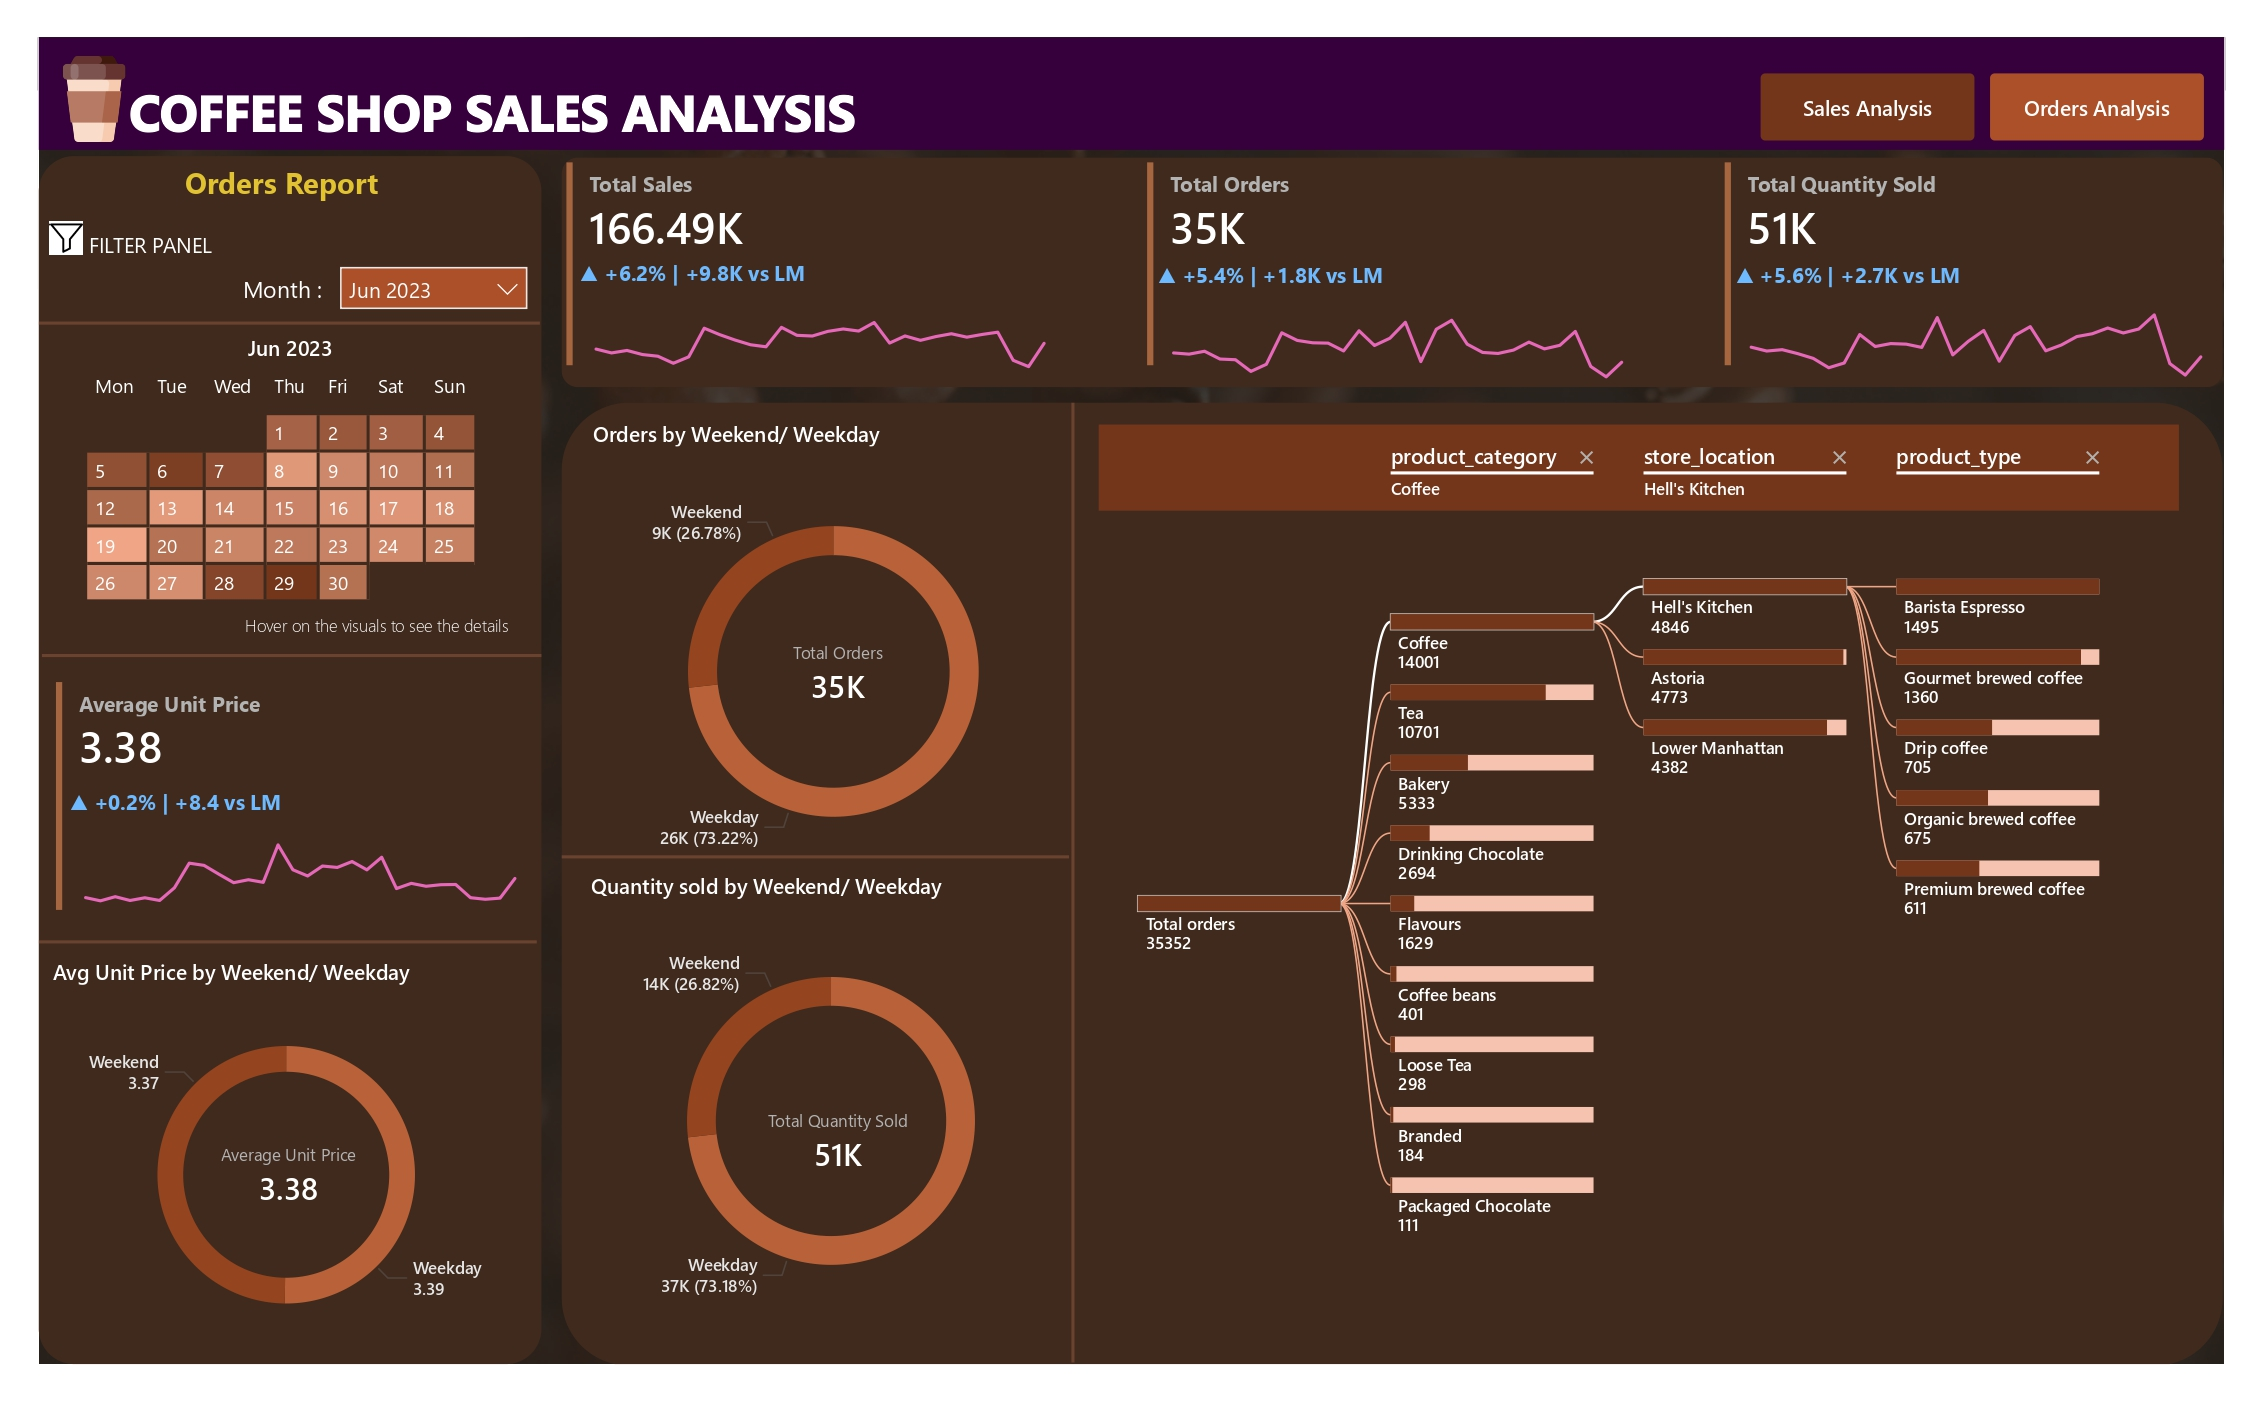

This screenshot's page, from the dashboard's own definition file:
{"tool":"powerbi","page":{"name":"Orders Analysis","canvas":[1400,850],"ordinal":1},"visuals":[{"type":"shape","box":[-7,0,1406.8,71.7],"z":0},{"type":"textbox","box":[53.4,19.7,735,56.2],"z":1000},{"type":"image","box":[0,7,70.3,64.6],"z":2000},{"type":"shape","box":[0,75.9,321.8,774.4],"z":3000},{"type":"shape","box":[334.7,76.5,1064.1,147.1],"z":4000},{"type":"shape","box":[334.7,234.1,1064.1,616.9],"z":5000},{"type":"cardVisual","fields":{"Data":["Transactions.Total sales"]},"box":[335.9,75.9,267,137.7],"z":6000},{"type":"cardVisual","fields":{"Data":["Transactions.Total orders"]},"box":[707.6,75.9,265.6,137.7],"z":7000},{"type":"cardVisual","fields":{"Data":["Transactions.Total Quantity Sold"]},"box":[1078,75.9,272.7,137.7],"z":8000},{"type":"pivotTable","fields":{"Columns":["Date Table.Day Name"],"Values":["Min(Date Table.Day Number)"],"Rows":["Date Table.Week Number"]},"box":[1.5,206.6,320.4,185.5],"z":9000},{"type":"lineChart","fields":{"Category":["Date Table.Date.Variation.Date Hierarchy.Year","Date Table.Date.Variation.Date Hierarchy.Quarter","Date Table.Date.Variation.Date Hierarchy.Month","Date Table.Date.Variation.Date Hierarchy.Day"],"Y":["Transactions.Total sales"]},"box":[341.5,142,317.6,81.5],"z":10000},{"type":"lineChart","fields":{"Category":["Date Table.Date.Variation.Date Hierarchy.Year","Date Table.Date.Variation.Date Hierarchy.Quarter","Date Table.Date.Variation.Date Hierarchy.Month","Date Table.Date.Variation.Date Hierarchy.Day"],"Y":["Transactions.Total orders"]},"box":[711.9,143.4,317.6,81],"z":11000},{"type":"lineChart","fields":{"Category":["Date Table.Date.Variation.Date Hierarchy.Year","Date Table.Date.Variation.Date Hierarchy.Quarter","Date Table.Date.Variation.Date Hierarchy.Month","Date Table.Date.Variation.Date Hierarchy.Day"],"Y":["Transactions.Total Quantity Sold"]},"box":[1081.8,142.6,318.2,81],"z":12000},{"type":"card","fields":{"Values":["Min(Date Table.Month Year)"]},"box":[94.6,181.6,132.1,39],"z":13000},{"type":"card","fields":{"Values":["Transactions.Foot Note"]},"box":[111.1,359.8,210.8,39.4],"z":14000},{"type":"shape","box":[0,159.1,321.2,48],"z":15000},{"type":"shape","box":[1.5,371.7,320.4,47.8],"z":16000},{"type":"textbox","box":[67.5,75,175.6,48],"z":17000},{"type":"textbox","box":[27,118.6,175.6,31.5],"z":18000},{"type":"image","box":[1.5,112.6,31.5,31.5],"z":19000},{"type":"shape","box":[334.7,501.3,325.7,48],"z":20000},{"type":"shape","box":[502.8,234.1,319.7,615.4],"z":21000},{"type":"donutChart","title":"Orders by Weekend/ Weekday","fields":{"Category":["Date Table.Weekend/ Weekday"],"Y":["Transactions.Total orders"]},"box":[349.7,244.6,318.2,304.7],"z":22000},{"type":"donutChart","title":"Quantity sold by Weekend/ Weekday","fields":{"Category":["Date Table.Weekend/ Weekday"],"Y":["Transactions.Total Quantity Sold"]},"box":[348.5,535.5,317.6,299.4],"z":23000},{"type":"decompositionTreeVisual","fields":{"Analyze":["Transactions.Total orders"],"ExplainBy":["Transactions.product_category","Transactions.store_location","Transactions.product_type"]},"box":[673.9,243.1,702.4,600.3],"z":24000},{"type":"cardVisual","fields":{"Data":["Transactions.Average Unit Price"]},"box":[9.1,408.7,297.2,154.6],"z":25000},{"type":"lineChart","fields":{"Category":["Date Table.Date.Variation.Date Hierarchy.Year","Date Table.Date.Variation.Date Hierarchy.Quarter","Date Table.Date.Variation.Date Hierarchy.Month","Date Table.Date.Variation.Date Hierarchy.Day"],"Y":["Transactions.Average Unit Price"]},"box":[15.1,480.7,304.7,82.5],"z":26000},{"type":"donutChart","title":"Avg Unit Price by Weekend/ Weekday","fields":{"Category":["Date Table.Weekend/ Weekday"],"Y":["Transactions.Average Unit Price"]},"box":[4.2,590.3,309.2,258.6],"z":27000},{"type":"shape","box":[0,555.1,319,49.2],"z":28000},{"type":"pageNavigator","box":[1103.1,22.5,285.2,43.5],"z":29000},{"type":"slicer","fields":{"Values":["Date Table.Month Year"]},"box":[183.1,136.6,139.6,55.5],"z":30000},{"type":"textbox","box":[118.6,145.6,78,48],"z":31000},{"type":"cardVisual","fields":{"Data":["Transactions.Total orders"]},"box":[438.5,375.2,139.1,66.1],"z":31001},{"type":"cardVisual","fields":{"Data":["Transactions.Total Quantity Sold"]},"box":[439.9,664.8,136.3,85.7],"z":31002},{"type":"cardVisual","fields":{"Data":["Transactions.Average Unit Price"]},"box":[81.5,688.7,149,81.5],"z":31003}]}

Visuals, with their boxes in screenshot pixels (x1, y1, x2, y2), scaled from the page's 1400x850 canvas onto the 2263x1402 screenshot:
shape: (0,0,2262,118)
textbox: (86,32,1274,125)
image: (0,12,114,118)
shape: (0,125,520,1401)
shape: (541,126,2261,369)
shape: (541,386,2261,1401)
cardVisual - Transactions.Total sales: (543,125,975,352)
cardVisual - Transactions.Total orders: (1144,125,1573,352)
cardVisual - Transactions.Total Quantity Sold: (1743,125,2183,352)
pivotTable - Date Table.Day Name x Min(Date Table.Day Number): (2,341,520,647)
lineChart - Date Table.Date.Variation.Date Hierarchy.Year x Date Table.Date.Variation.Date Hierarchy.Quarter: (552,234,1065,369)
lineChart - Date Table.Date.Variation.Date Hierarchy.Year x Date Table.Date.Variation.Date Hierarchy.Quarter: (1151,237,1664,370)
lineChart - Date Table.Date.Variation.Date Hierarchy.Year x Date Table.Date.Variation.Date Hierarchy.Quarter: (1749,235,2262,369)
card - Min(Date Table.Month Year): (153,300,366,364)
card - Transactions.Foot Note: (180,593,520,658)
shape: (0,262,519,342)
shape: (2,613,520,692)
textbox: (109,124,393,203)
textbox: (44,196,327,248)
image: (2,186,53,238)
shape: (541,827,1067,906)
shape: (813,386,1330,1401)
"Orders by Weekend/ Weekday" donutChart: (565,403,1080,906)
"Quantity sold by Weekend/ Weekday" donutChart: (563,883,1077,1377)
decompositionTreeVisual - Transactions.Total orders x Transactions.product_category: (1089,401,2225,1391)
cardVisual - Transactions.Average Unit Price: (15,674,495,929)
lineChart - Date Table.Date.Variation.Date Hierarchy.Year x Date Table.Date.Variation.Date Hierarchy.Quarter: (24,793,517,929)
"Avg Unit Price by Weekend/ Weekday" donutChart: (7,974,507,1400)
shape: (0,916,516,997)
pageNavigator: (1783,37,2244,109)
slicer - Date Table.Month Year: (296,225,522,317)
textbox: (192,240,318,319)
cardVisual - Transactions.Total orders: (709,619,934,728)
cardVisual - Transactions.Total Quantity Sold: (711,1097,931,1238)
cardVisual - Transactions.Average Unit Price: (132,1136,373,1270)
